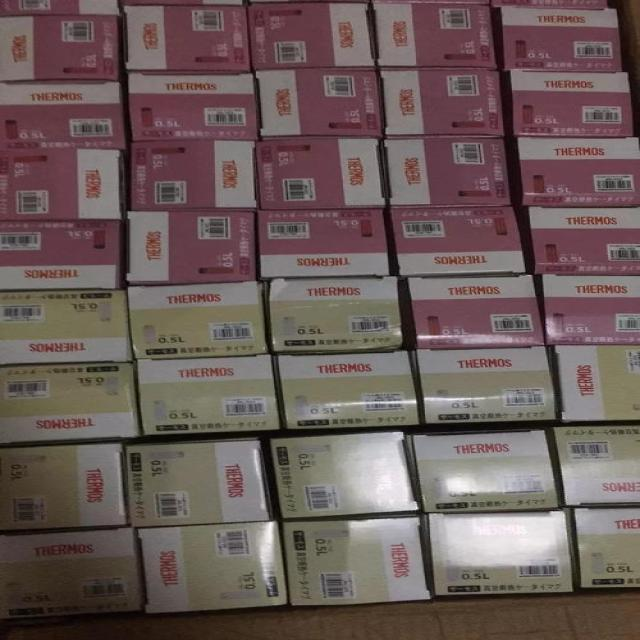box: (263, 431, 423, 521), (128, 439, 283, 526), (140, 522, 289, 612), (283, 515, 430, 605), (407, 430, 565, 513), (427, 511, 574, 600), (0, 528, 143, 619), (0, 439, 129, 533), (0, 362, 141, 446), (273, 351, 419, 431), (136, 356, 278, 437), (127, 282, 272, 361), (414, 347, 554, 426), (396, 276, 546, 349), (0, 289, 137, 366), (262, 277, 401, 352), (386, 207, 531, 275), (125, 210, 256, 285), (125, 137, 261, 209), (124, 71, 261, 141), (385, 135, 515, 207), (251, 67, 384, 137), (256, 209, 387, 279), (511, 136, 639, 207), (502, 69, 634, 137), (0, 220, 130, 289), (261, 137, 389, 207), (0, 148, 124, 220), (249, 1, 377, 68), (380, 69, 508, 135), (0, 83, 129, 147), (121, 5, 250, 69), (497, 5, 620, 72), (519, 207, 639, 275), (373, 5, 498, 69), (0, 17, 121, 81), (547, 423, 639, 505), (536, 274, 639, 346), (548, 345, 639, 422), (567, 507, 639, 591), (0, 1, 121, 16), (497, 0, 616, 8), (120, 1, 244, 6)
